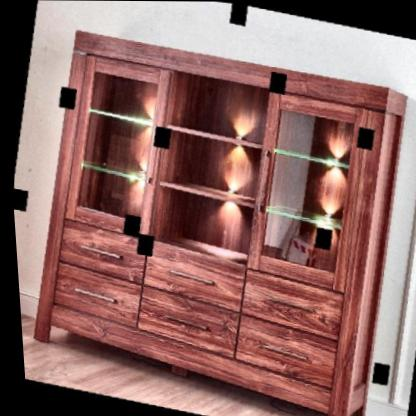Sideboard: (1, 26, 416, 416)
